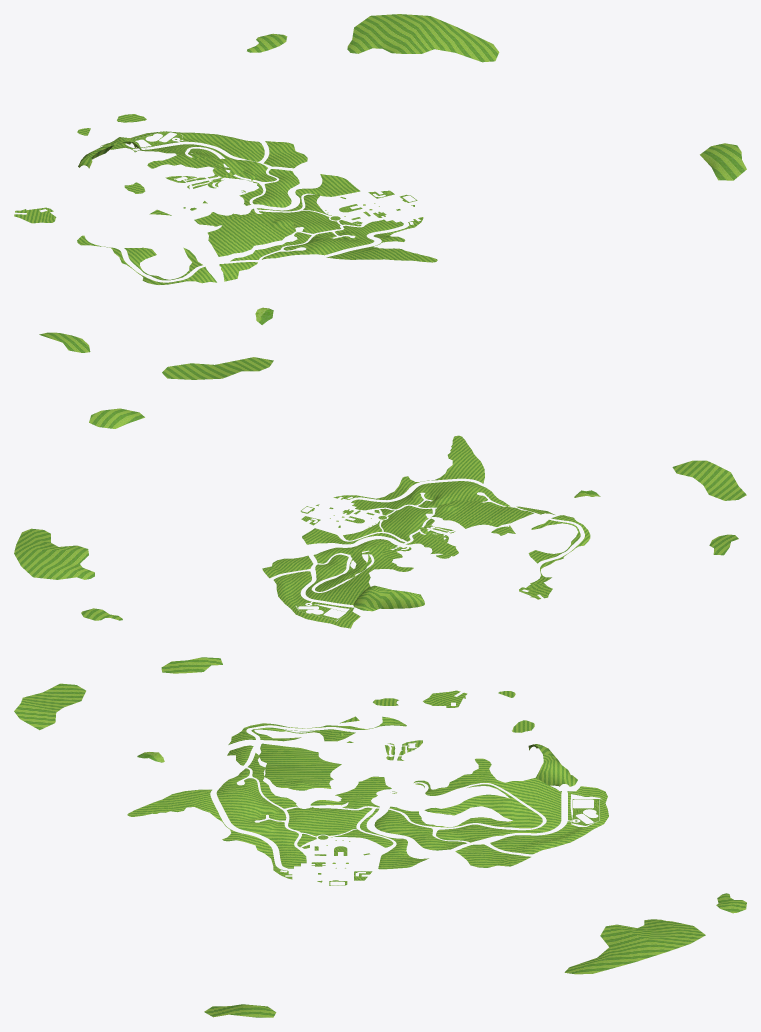
File: FP_jog_island.md.019.obj
The picture shows the model from 3 angles, top to bottom: view 1: azimuth 30°, elevation 25°; view 2: azimuth 150°, elevation 25°; view 3: azimuth 270°, elevation 25°; orthographic projection. The views are drawn at different scales.
Visible parts, largest first — view 1: FP_jog_island.mo.019; view 2: FP_jog_island.mo.019; view 3: FP_jog_island.mo.019.
Part boxes in pixels (<box>): FP_jog_island.mo.019: <box>14,14,746,379</box>; FP_jog_island.mo.019: <box>14,408,746,628</box>; FP_jog_island.mo.019: <box>14,657,746,1017</box>.
Size of the model in its own units: 243 by 21.52 by 209.
Materials: 1 (1 with a texture image).
